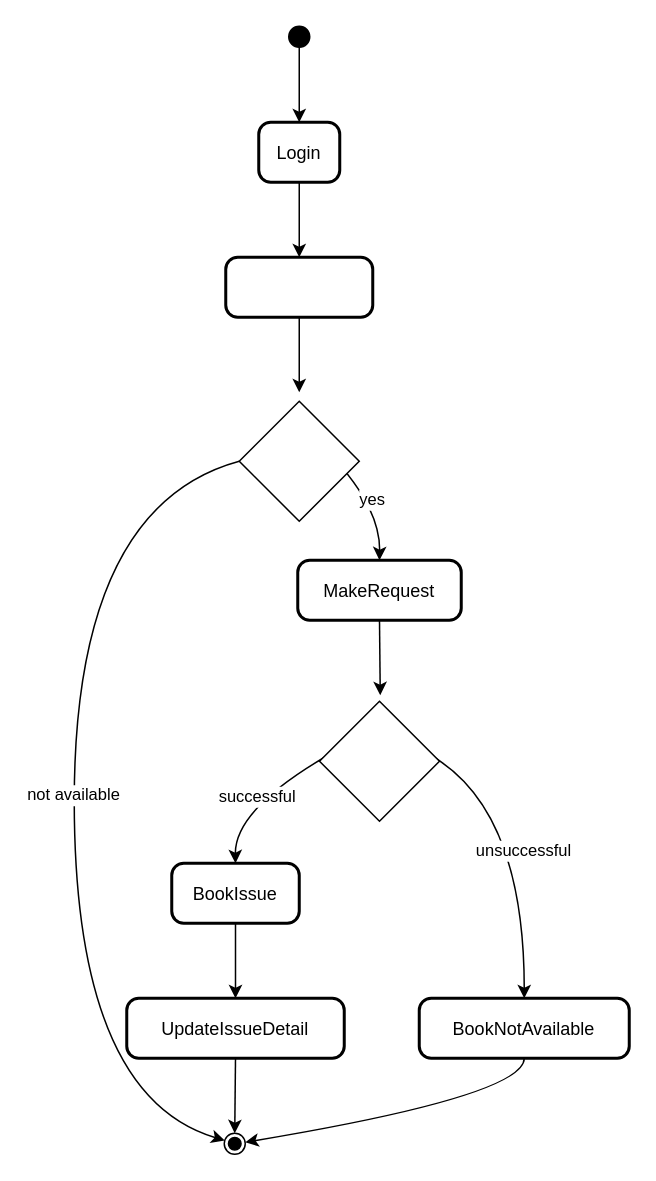
Some shapes in this 656 by 1181 pixel diagram are drawn without their labels. The shapes that lost their labels are listed below. From the top down, each one's centre as x and y in pixels, then its label:
(x=299, y=286): SearchBook
(x=298, y=460): Availability check
(x=379, y=760): Request Check
